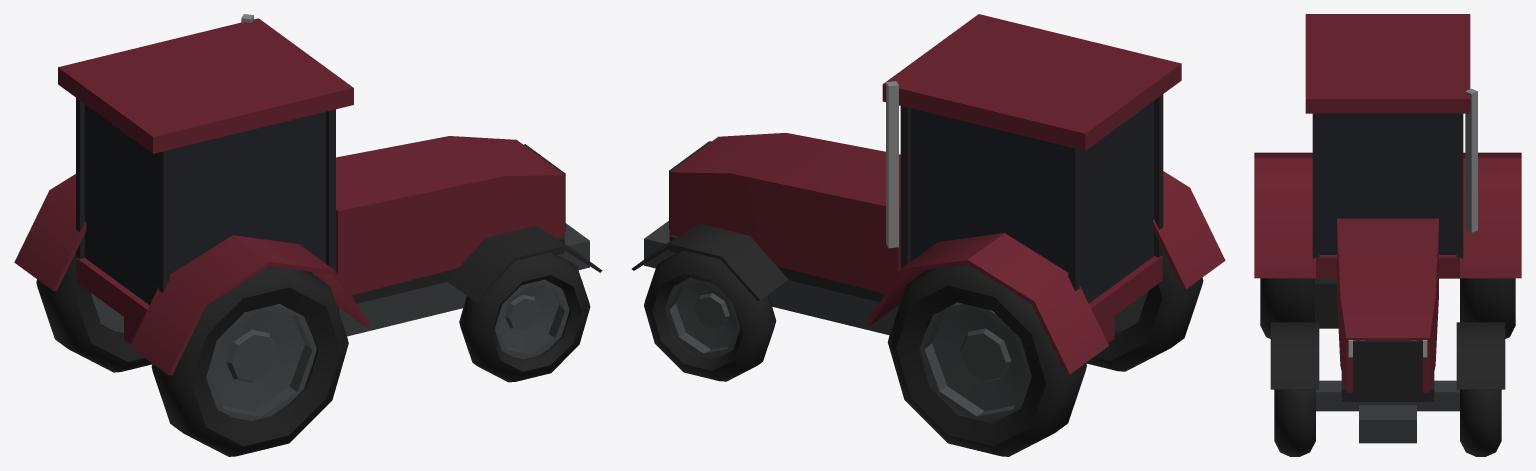
The model's file is SM_Prop_farm_tractor_utility_1_LOD2.glb.
The picture shows the model from 3 angles, left to right: view 1: azimuth 30°, elevation 25°; view 2: azimuth 150°, elevation 25°; view 3: azimuth 270°, elevation 25°; orthographic projection. The views are drawn at different scales.
Parts seen in each view (by area): view 1: SM_Prop_farm_tractor_utility_1_LOD2; view 2: SM_Prop_farm_tractor_utility_1_LOD2; view 3: SM_Prop_farm_tractor_utility_1_LOD2.
Part boxes in pixels (<box>): SM_Prop_farm_tractor_utility_1_LOD2: <box>14,14,602,456</box>; SM_Prop_farm_tractor_utility_1_LOD2: <box>632,14,1225,456</box>; SM_Prop_farm_tractor_utility_1_LOD2: <box>1254,14,1521,456</box>.
Size of the model in its own units: 4.15 by 2.69 by 2.3.
